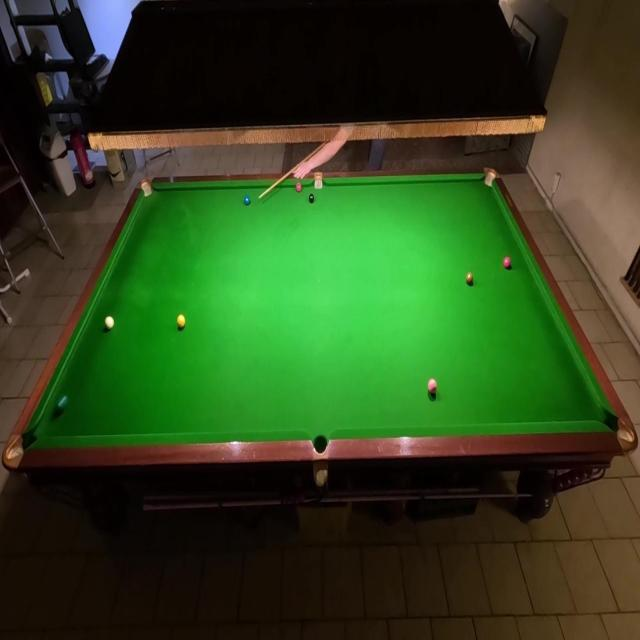Ball: (54, 394, 68, 414), (428, 378, 438, 394), (502, 256, 512, 270), (177, 314, 186, 329), (105, 316, 114, 330), (466, 272, 474, 286), (244, 195, 252, 207), (296, 182, 302, 192), (308, 194, 314, 204)
